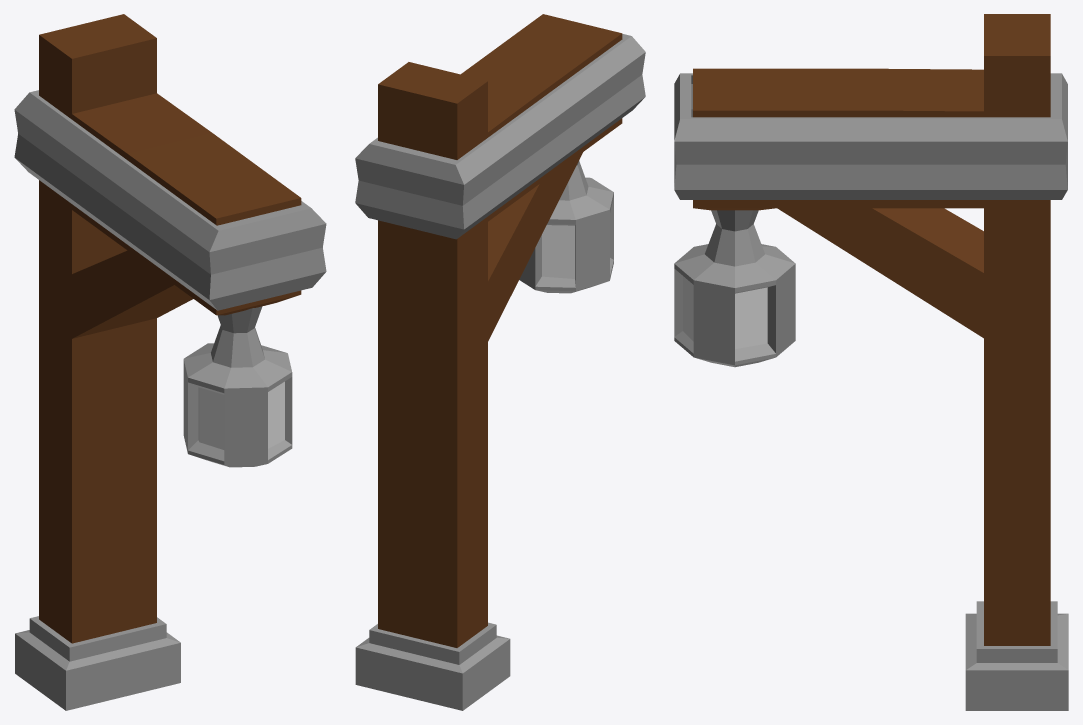
File: WallLamp.fbx
The picture shows the model from 3 angles, left to right: view 1: azimuth 30°, elevation 25°; view 2: azimuth 150°, elevation 25°; view 3: azimuth 270°, elevation 25°; orthographic projection. The views are drawn at different scales.
Visible parts, largest first — view 1: WallLightConstruction, WallLightConstructionMetal, WallLightMetalLamp, WallLightLight; view 2: WallLightConstruction, WallLightConstructionMetal, WallLightMetalLamp, WallLightLight; view 3: WallLightConstruction, WallLightConstructionMetal, WallLightMetalLamp, WallLightLight.
Part boxes in pixels (<box>): WallLightConstruction: <box>39,14,301,643</box>; WallLightConstructionMetal: <box>14,90,326,710</box>; WallLightMetalLamp: <box>183,306,292,467</box>; WallLightLight: <box>198,381,284,449</box>; WallLightConstruction: <box>378,14,622,647</box>; WallLightConstructionMetal: <box>355,34,645,710</box>; WallLightMetalLamp: <box>519,160,613,293</box>; WallLightLight: <box>542,225,574,278</box>; WallLightConstruction: <box>693,14,1050,645</box>; WallLightConstructionMetal: <box>674,73,1068,710</box>; WallLightMetalLamp: <box>674,210,795,367</box>; WallLightLight: <box>683,276,767,349</box>.
Bounding box in the file's own units: 76.33 × 400 × 221.
